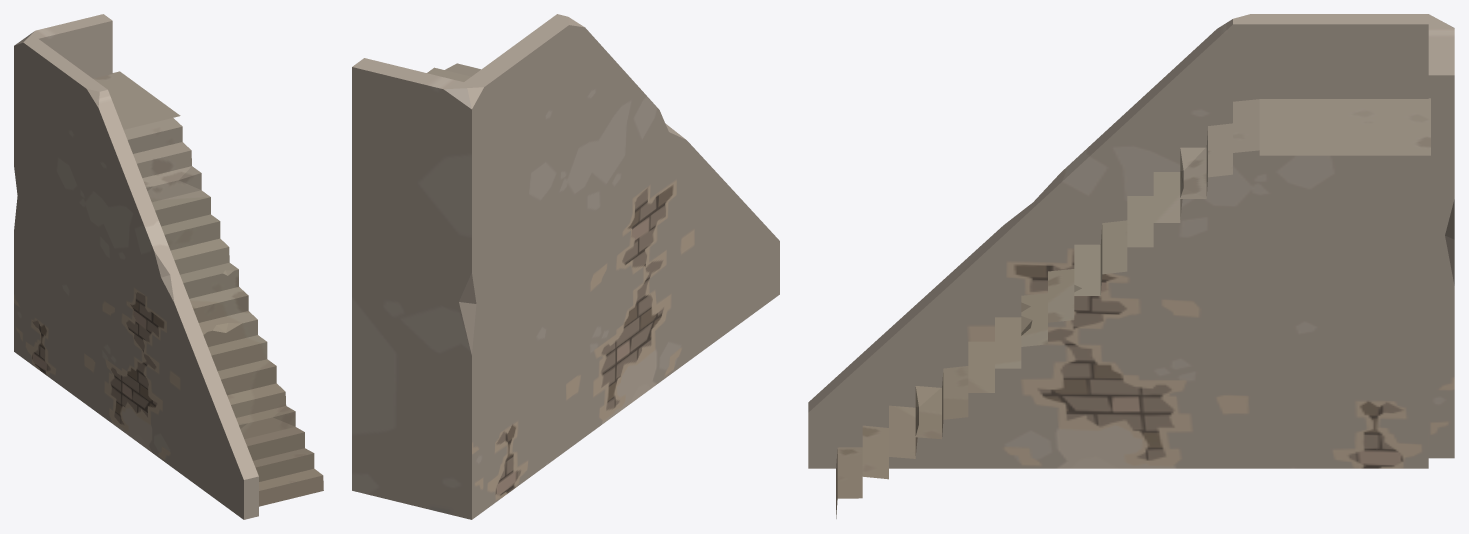
File: SM_Bld_Shop_08_Stairs.fbx
3 renders of one model, left to right at view 1: azimuth 30°, elevation 25°; view 2: azimuth 150°, elevation 25°; view 3: azimuth 270°, elevation 25°, orthographic. The views are drawn at different scales.
Parts seen in each view (by area): view 1: SM_Bld_Shop_08_Stairs; view 2: SM_Bld_Shop_08_Stairs; view 3: SM_Bld_Shop_08_Stairs.
Boxes of the visible parts, x1=… form: SM_Bld_Shop_08_Stairs: x1=14, y1=14, x2=323, y2=519; SM_Bld_Shop_08_Stairs: x1=352, y1=14, x2=779, y2=519; SM_Bld_Shop_08_Stairs: x1=808, y1=14, x2=1454, y2=518.
Bounding box in the file's own units: 161 × 500 × 659.
